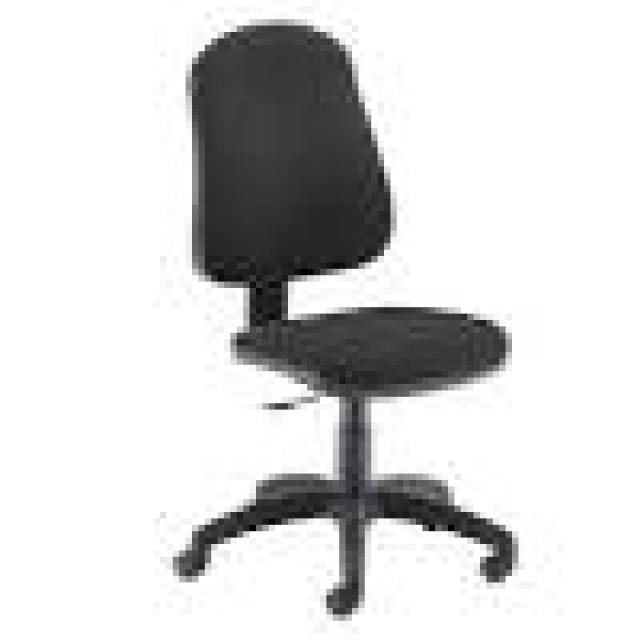chair: (139, 11, 539, 640)
